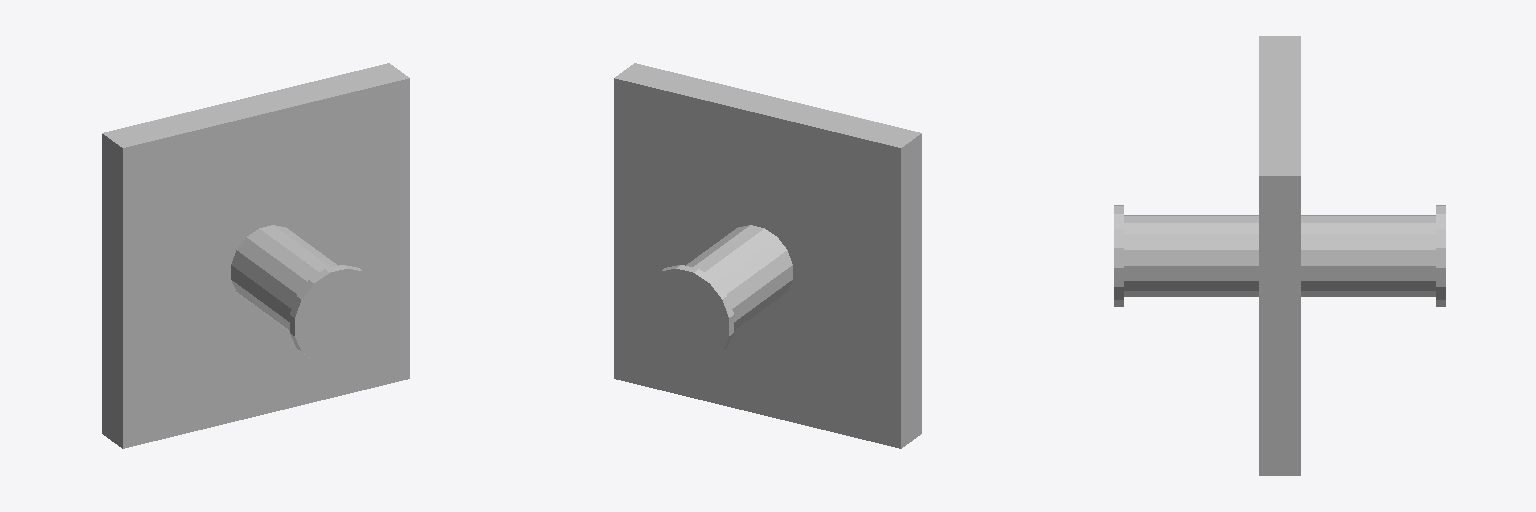
File: pipeworks_entry_panel.obj
The picture shows the model from 3 angles: view 1: azimuth 30°, elevation 25°; view 2: azimuth 150°, elevation 25°; view 3: azimuth 270°, elevation 25°; orthographic projection.
Visible parts, largest first — view 1: Cube.001; view 2: Cube.001; view 3: Cube.001.
Boxes of the visible parts, box(x1,y1,x2,y2) form: Cube.001: box(102, 63, 409, 448); Cube.001: box(614, 63, 921, 448); Cube.001: box(1114, 36, 1445, 475).
Bounding box in the file's own units: 1 × 1 × 1.